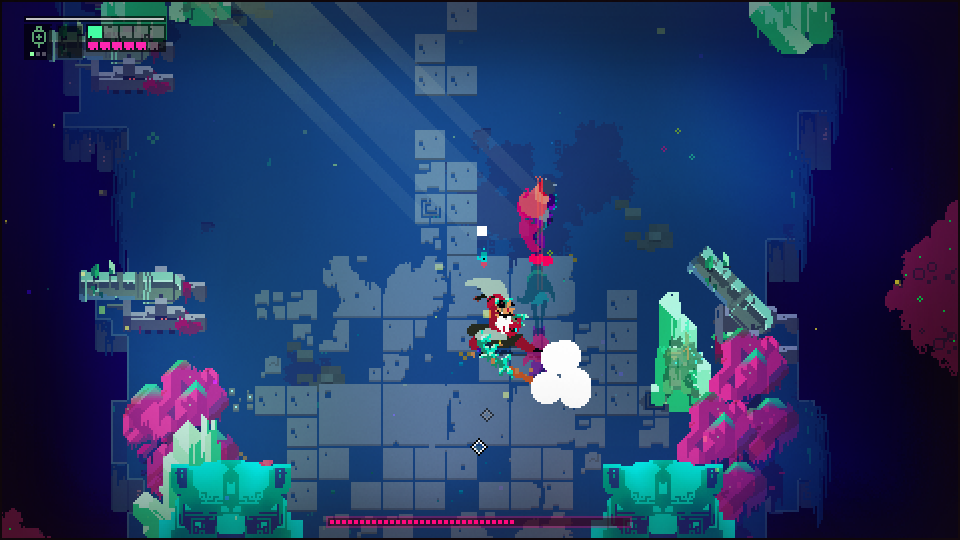hanged_man: (462, 271, 544, 387)
player: (516, 174, 559, 230)
